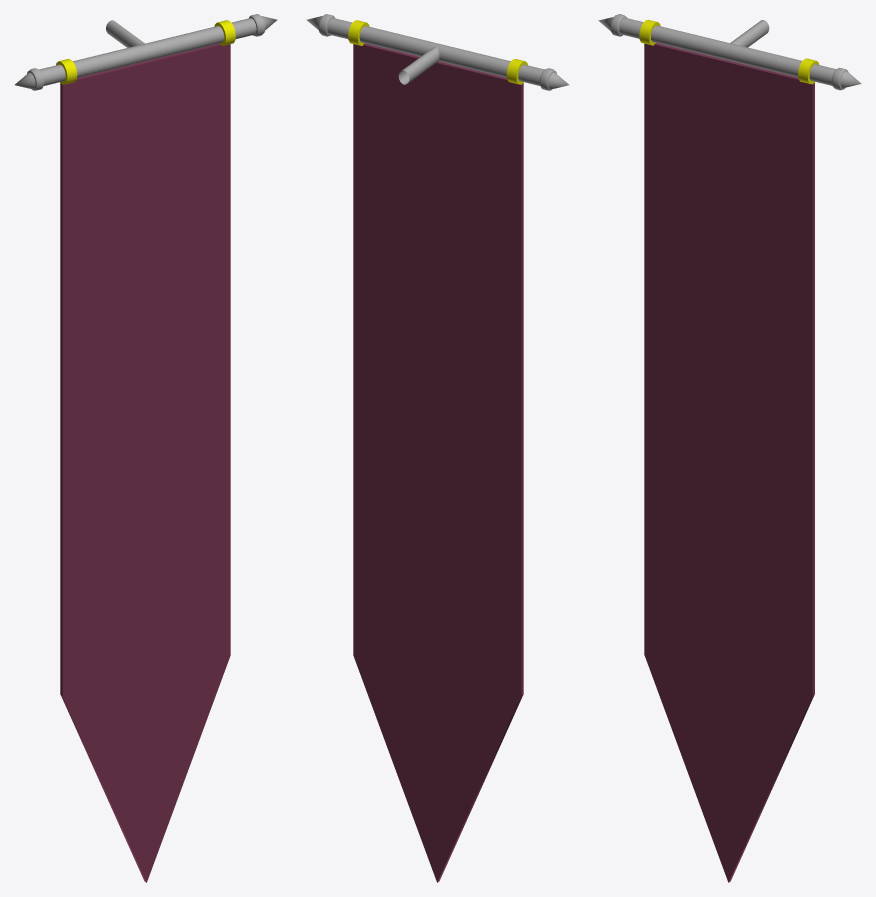
The model's file is Banderin_Pared.fbx.
3 views of the same model, side by side, from view 1: azimuth 30°, elevation 25°; view 2: azimuth 150°, elevation 25°; view 3: azimuth 330°, elevation 25° (orthographic).
Parts seen in each view (by area): view 1: Banderin_Pared; view 2: Banderin_Pared; view 3: Banderin_Pared.
Part boxes in pixels (left/top/right/bottom): Banderin_Pared: left=15, top=14, right=277, bottom=882; Banderin_Pared: left=306, top=14, right=568, bottom=882; Banderin_Pared: left=598, top=14, right=861, bottom=882.
Bounding box in the file's own units: 1.33 × 4.05 × 0.353.
